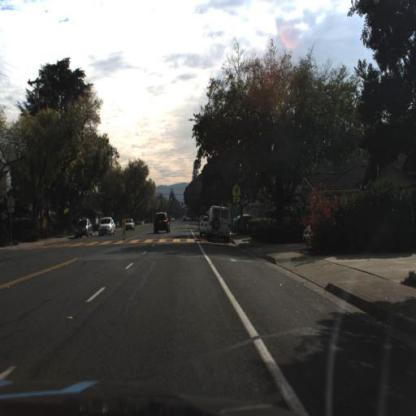car: (206, 206, 233, 245), (153, 211, 171, 238), (100, 217, 116, 238), (75, 220, 93, 238), (199, 216, 211, 235), (123, 219, 136, 233)
